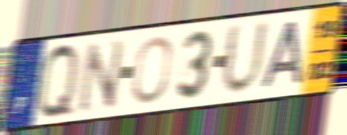3: (175, 28, 214, 103)
A: (258, 18, 306, 92)
N: (77, 36, 127, 116)
O: (130, 34, 174, 107)
Q: (36, 40, 81, 122)
U: (219, 17, 272, 99)
